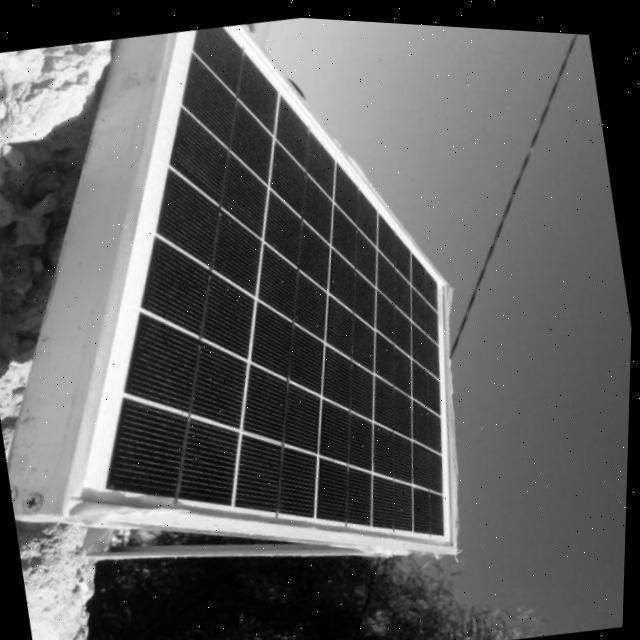Normal Solar Panel: (0, 0, 504, 609)
